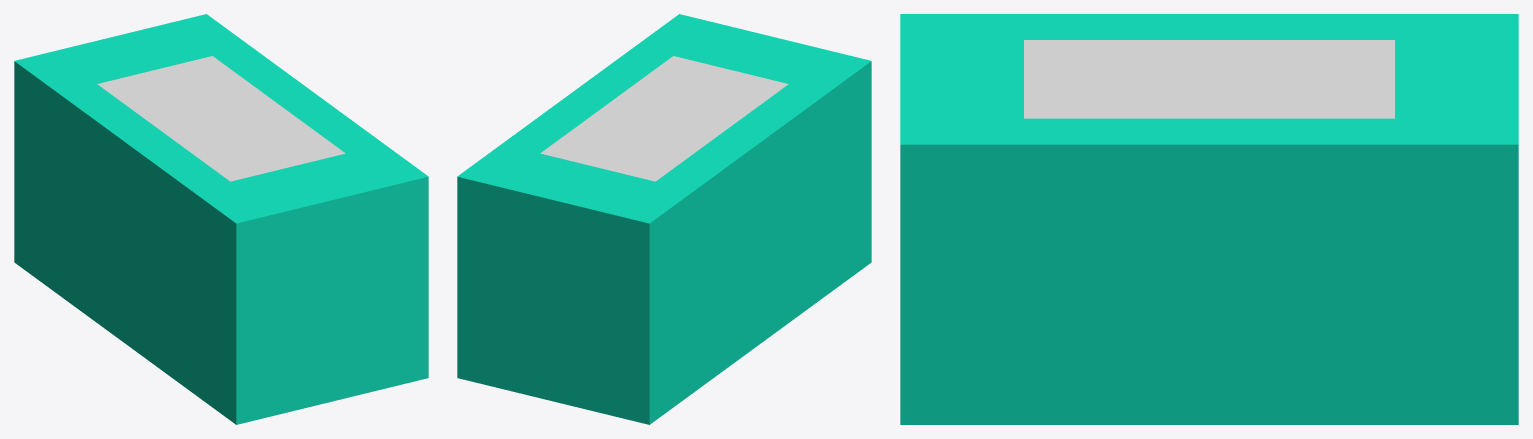
3 views of the same model, side by side, from view 1: azimuth 30°, elevation 25°; view 2: azimuth 150°, elevation 25°; view 3: azimuth 270°, elevation 25° (orthographic). The views are drawn at different scales.
Visible parts, largest first — view 1: Cube; view 2: Cube; view 3: Cube.
Part boxes in pixels (x1,y1,x2,y2): Cube: [14, 14, 428, 424]; Cube: [457, 14, 871, 424]; Cube: [900, 14, 1518, 424].
Bounding box in the file's own units: 400 × 400 × 800.
